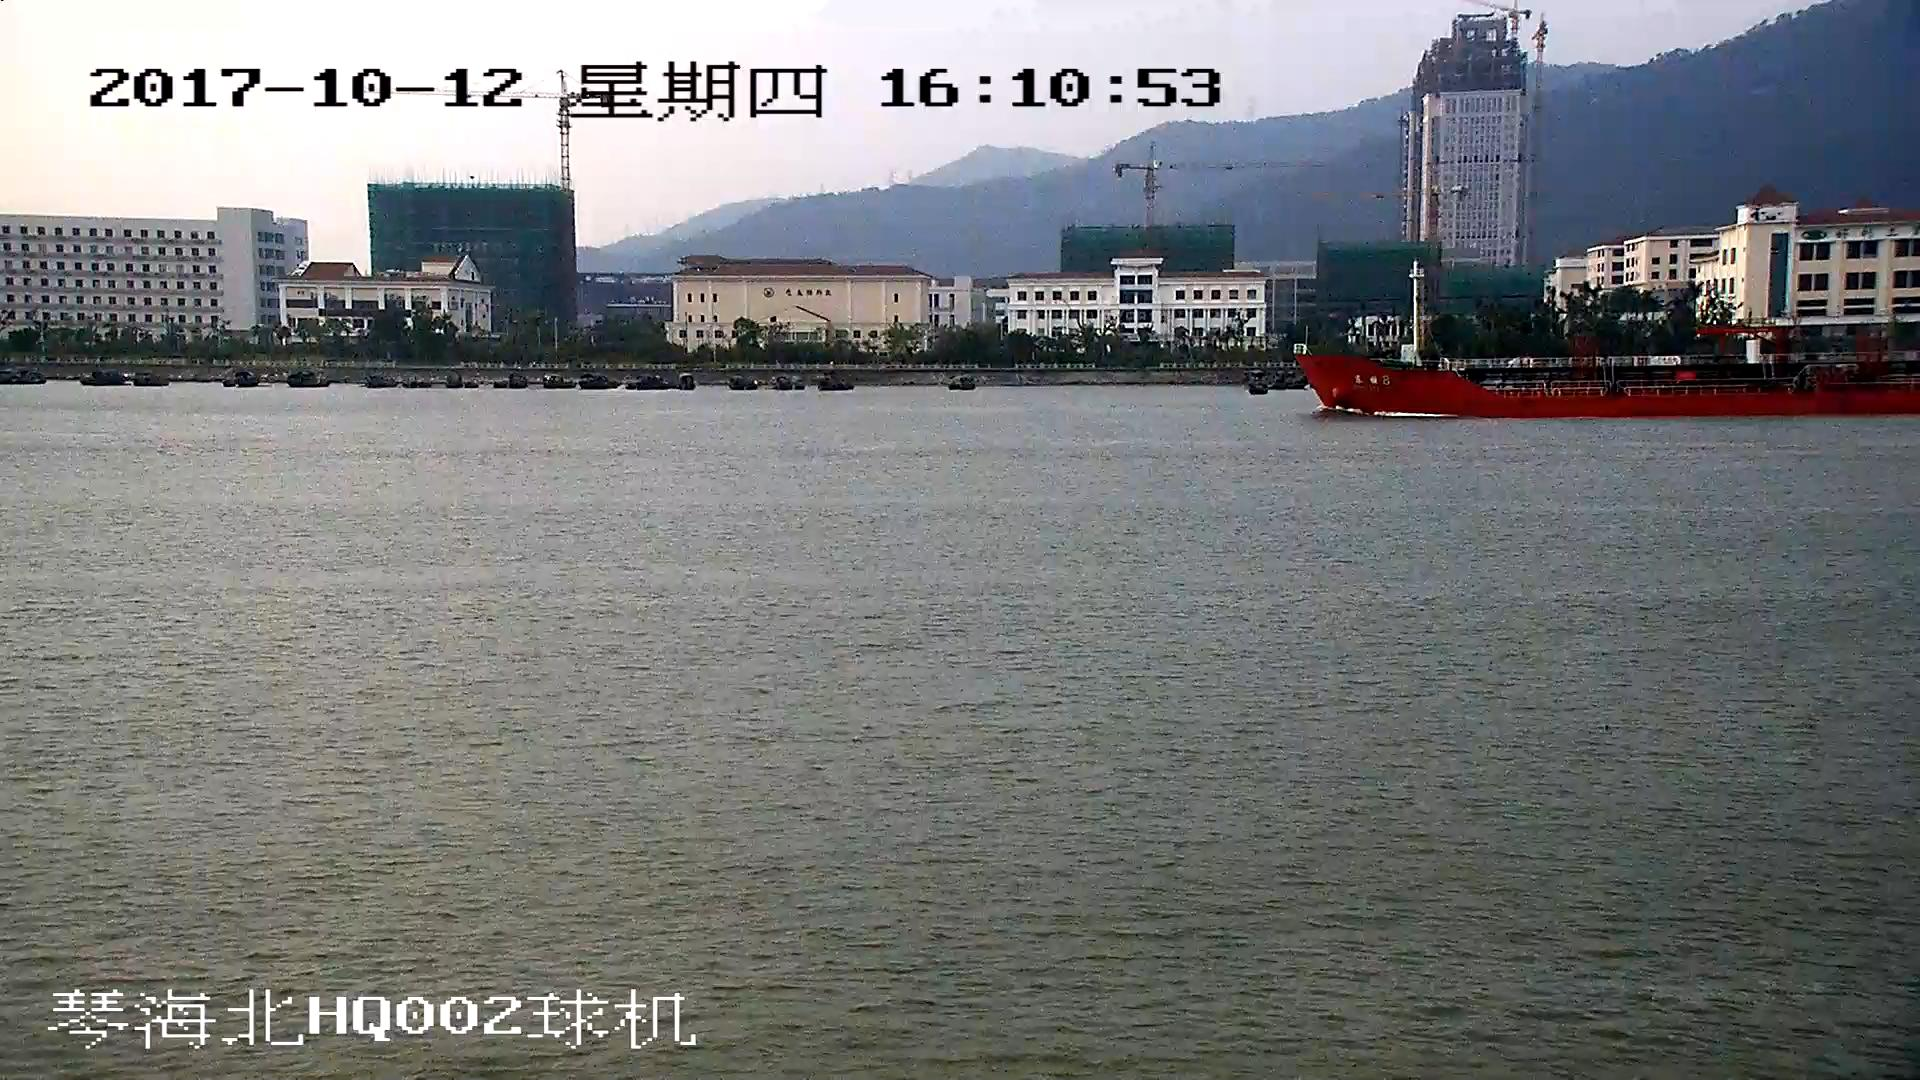general cargo ship: (1295, 269, 1920, 422)
